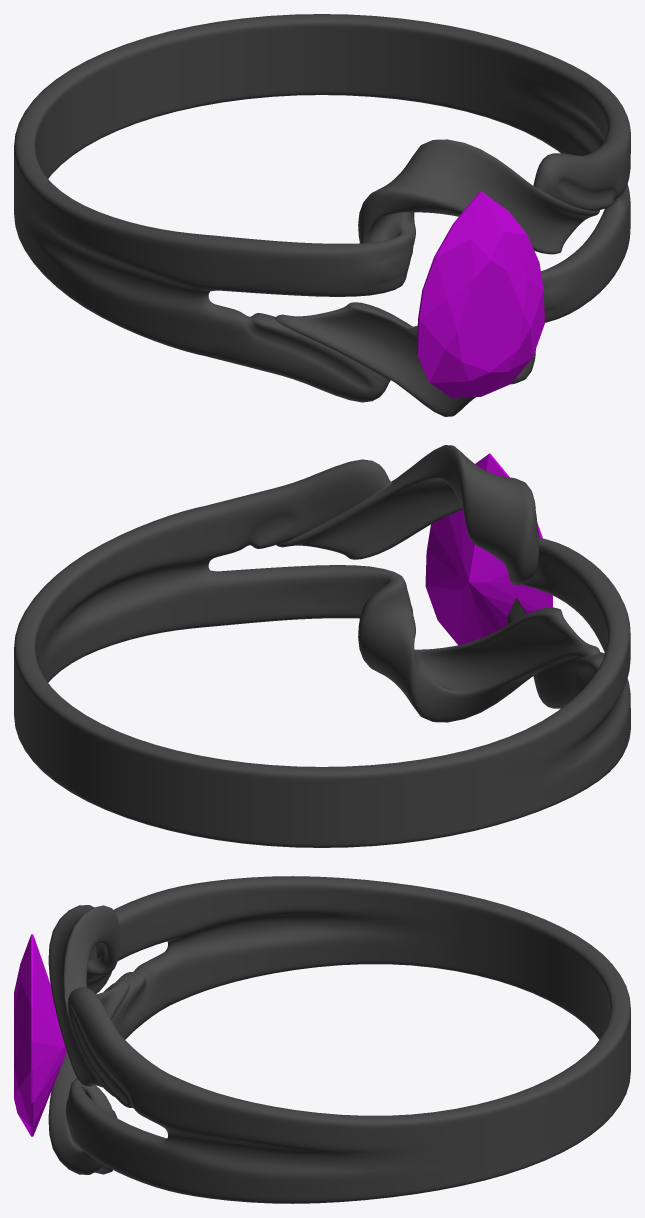
File: ring.glb
The picture shows the model from 3 angles, top to bottom: view 1: azimuth 30°, elevation 25°; view 2: azimuth 150°, elevation 25°; view 3: azimuth 270°, elevation 25°; orthographic projection. The views are drawn at different scales.
Visible parts, largest first — view 1: Ring, Ring_gem; view 2: Ring, Ring_gem; view 3: Ring, Ring_gem.
Boxes of the visible parts, x1=… form: Ring: x1=14, y1=14, x2=630, y2=416; Ring_gem: x1=417, y1=190, x2=544, y2=398; Ring: x1=14, y1=445, x2=630, y2=847; Ring_gem: x1=425, y1=453, x2=553, y2=645; Ring: x1=48, y1=876, x2=630, y2=1203; Ring_gem: x1=14, y1=934, x2=66, y2=1136.
Bounding box in the file's own units: 2.79 × 1.38 × 2.97.
